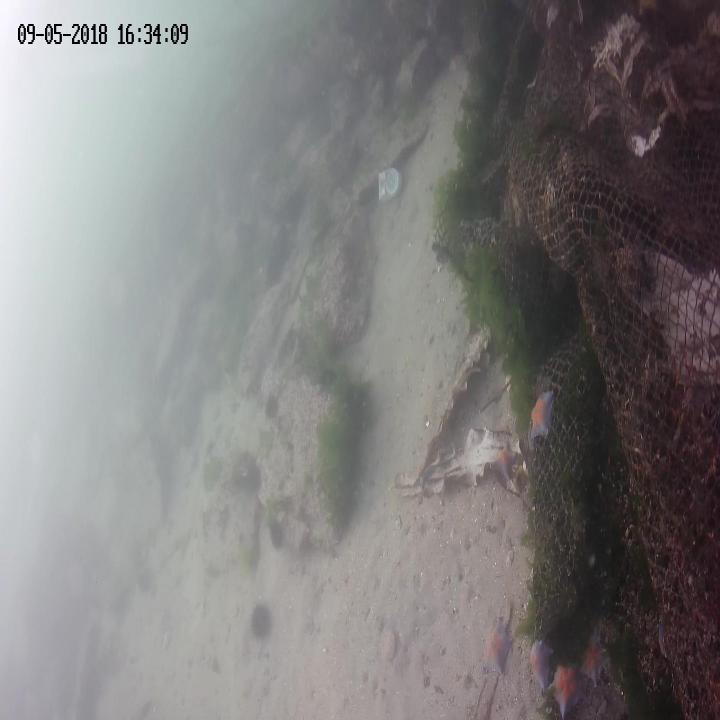echinus: (249, 600, 271, 638), (268, 518, 284, 548), (262, 392, 278, 416)
scallop: (378, 628, 397, 662)
starfish: (551, 660, 580, 718), (481, 619, 513, 669), (528, 391, 552, 441), (528, 636, 552, 686), (492, 440, 517, 482), (582, 644, 608, 684)
